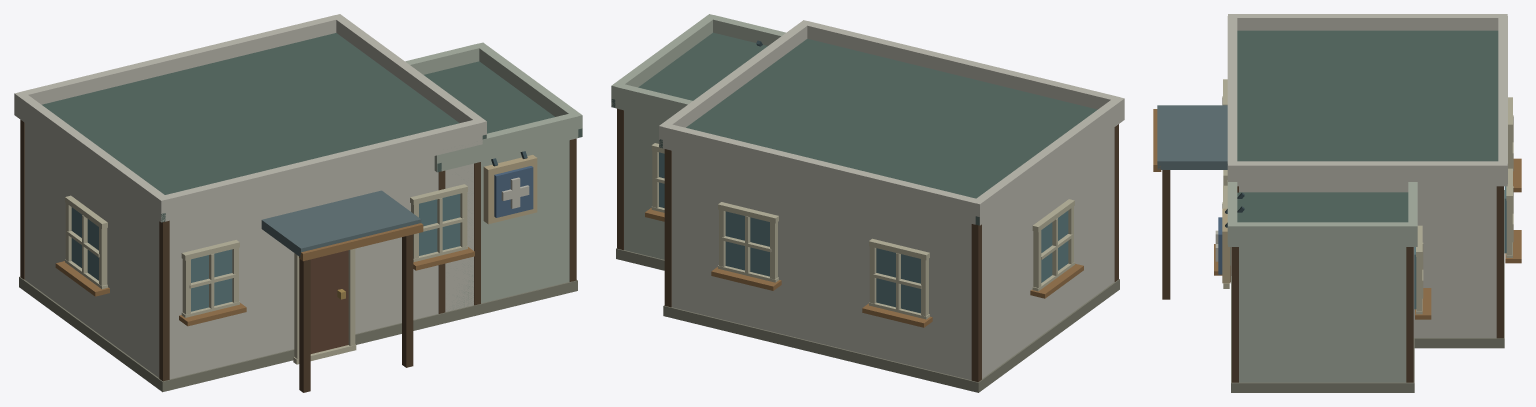
Rendered from Building_Settlement_VillageClinic_001.glb.
The picture shows the model from 3 angles, left to right: view 1: azimuth 30°, elevation 25°; view 2: azimuth 150°, elevation 25°; view 3: azimuth 270°, elevation 25°; orthographic projection. The views are drawn at different scales.
Visible parts, largest first — view 1: Building_Settlement_VillageClinic_001; view 2: Building_Settlement_VillageClinic_001; view 3: Building_Settlement_VillageClinic_001.
Part boxes in pixels (<box>): Building_Settlement_VillageClinic_001: <box>14,14,582,392</box>; Building_Settlement_VillageClinic_001: <box>611,14,1124,392</box>; Building_Settlement_VillageClinic_001: <box>1153,14,1521,392</box>.
Bounding box in the file's own units: 7.93 × 3.4 × 6.12.
